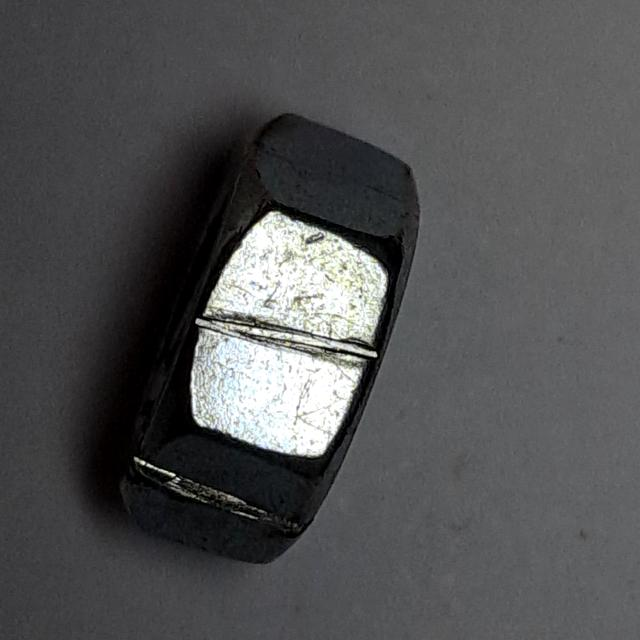Side_Scratches: (93, 102, 435, 578)
